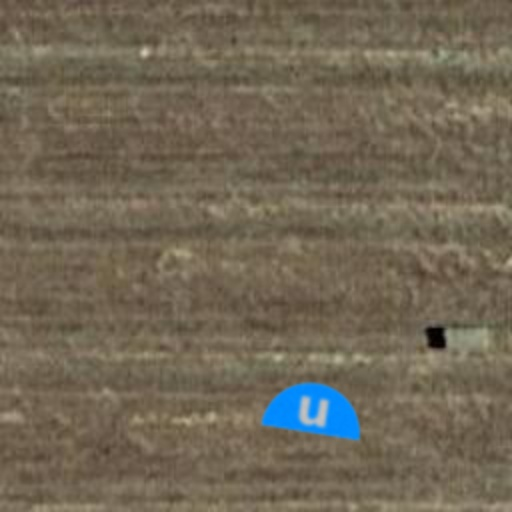semicircle: (256, 350, 372, 466)
